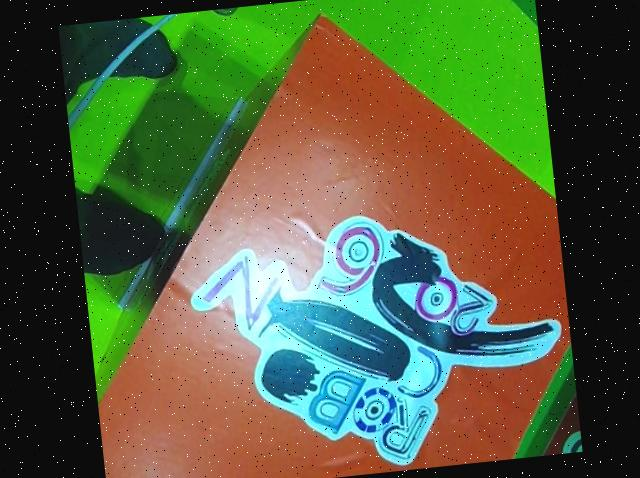R1: (58, 0, 582, 478)
